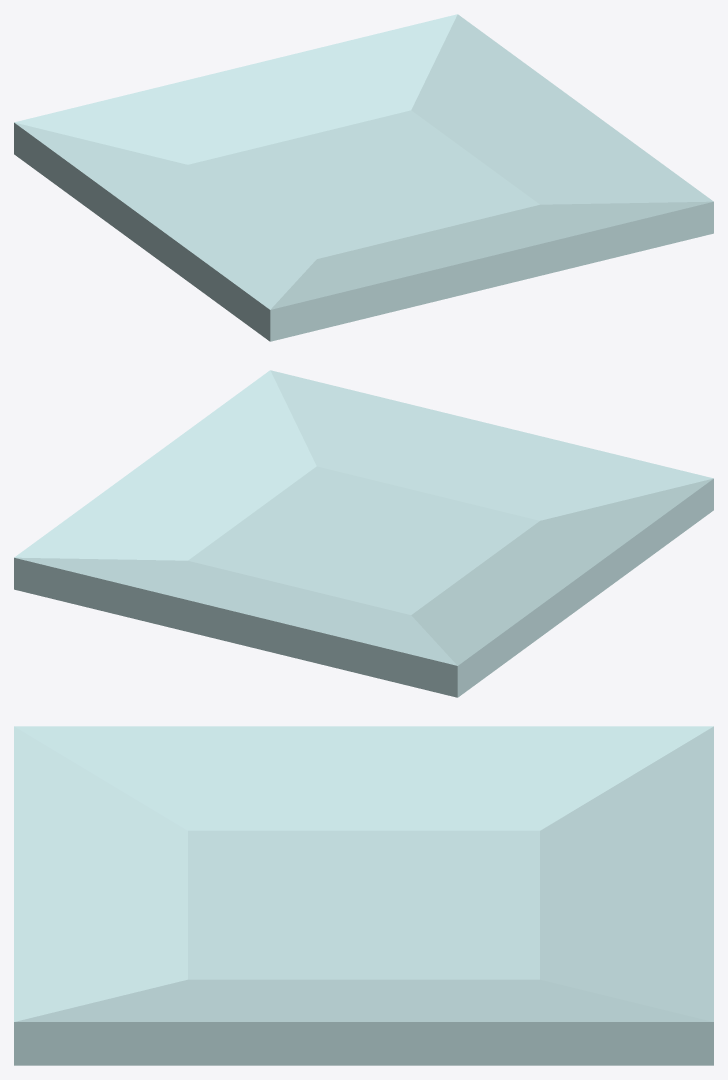
Rendered from Itr_Obj_dish1_04.FBX.
3 views of the same model, one above another, from view 1: azimuth 30°, elevation 25°; view 2: azimuth 150°, elevation 25°; view 3: azimuth 270°, elevation 25° (orthographic). The views are drawn at different scales.
Visible parts, largest first — view 1: Itr_Obj_dish1_04; view 2: Itr_Obj_dish1_04; view 3: Itr_Obj_dish1_04.
Part boxes in pixels (x1,y1,x2,y2): Itr_Obj_dish1_04: [14, 14, 713, 341]; Itr_Obj_dish1_04: [14, 370, 713, 697]; Itr_Obj_dish1_04: [14, 726, 713, 1065].
Bounding box in the file's own units: 7.99 × 0.9383 × 7.99.
